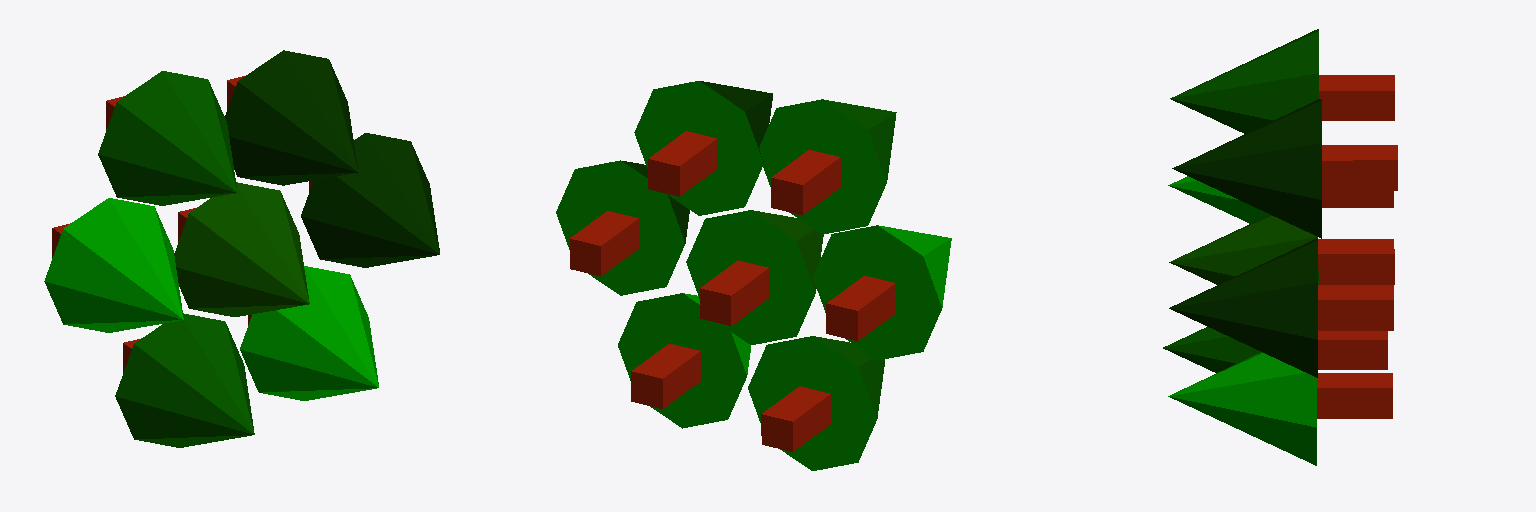
Rendered from tree_2_0.obj.
3 views of the same model, side by side, from view 1: azimuth 30°, elevation 25°; view 2: azimuth 150°, elevation 25°; view 3: azimuth 270°, elevation 25° (orthographic).
Visible parts, largest first — view 1: Tree_Cube.002; view 2: Tree_Cube.002; view 3: Tree_Cube.002.
Part boxes in pixels (bbox=[...]): Tree_Cube.002: bbox=[44, 50, 439, 447]; Tree_Cube.002: bbox=[556, 81, 951, 470]; Tree_Cube.002: bbox=[1163, 29, 1397, 465].
Bounding box in the file's own units: 2.12 × 1.98 × 1.12.